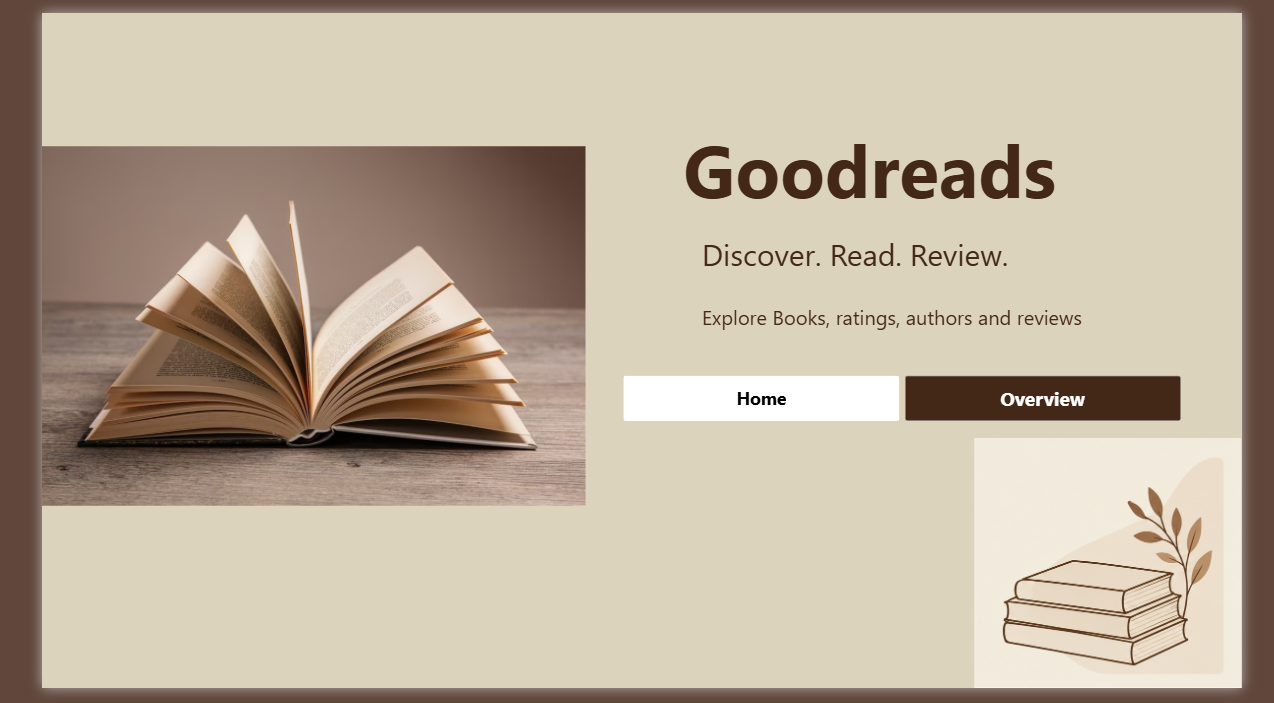

What the dashboard file says about the page in this screenshot:
{"tool":"powerbi","page":{"name":"Home","canvas":[1920,1080],"ordinal":0},"visuals":[{"type":"image","box":[0,82,870,837.5],"z":0},{"type":"textbox","box":[1025.8,171,744.5,181.8],"z":1000},{"type":"pageNavigator","box":[930.2,580.9,893.8,73.6],"z":2000},{"type":"textbox","box":[1056.1,352.8,584.3,95.2],"z":3000},{"type":"textbox","box":[1056.1,463.1,642.8,77.9],"z":4000},{"type":"image","box":[1489.4,680.4,430.7,399.9],"z":6001}]}

Visuals, with their boxes in screenshot pixels (x1, y1, x2, y2), scaled from the page's 1920x1080 canvas onto the 1274x703 screenshot:
image: BBox(0, 53, 577, 599)
textbox: BBox(681, 111, 1175, 230)
pageNavigator: BBox(617, 378, 1210, 426)
textbox: BBox(701, 230, 1088, 292)
textbox: BBox(701, 301, 1127, 352)
image: BBox(988, 443, 1273, 702)
